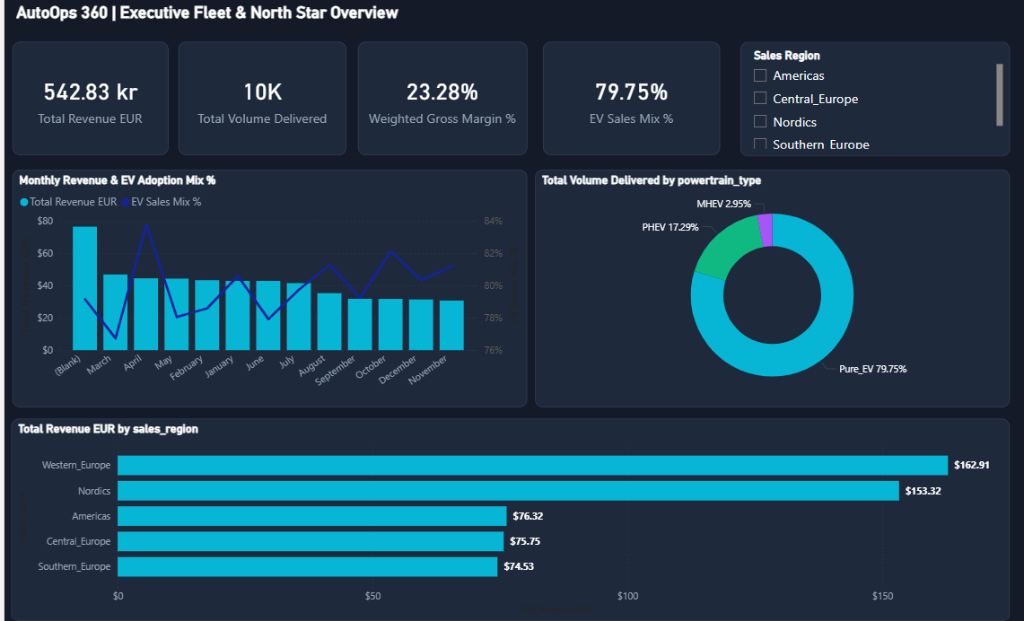

Layout of this report page (visuals, bound fields, positions):
{"tool":"powerbi","page":{"name":"Page 1","canvas":[1280,720],"ordinal":0},"visuals":[{"type":"card","fields":{"Values":["dim_dates.Total Revenue EUR"]},"box":[9.9,59.2,195.8,115.5],"z":0},{"type":"card","fields":{"Values":["dim_dates.Total Volume Delivered"]},"box":[218.3,59.2,211.3,115.5],"z":1000},{"type":"card","fields":{"Values":["dim_dates.Weighted Gross Margin %"]},"box":[443.7,59.2,212.7,115.5],"z":2000},{"type":"card","fields":{"Values":["dim_dates.EV Sales Mix %"]},"box":[676.1,59.2,222.5,115.5],"z":3000},{"type":"slicer","fields":{"Values":["dim_geography.sales_region"]},"box":[923.9,59.2,338,115.5],"z":4000},{"type":"lineStackedColumnComboChart","title":"Monthly Revenue & EV Adoption Mix %","fields":{"Category":["dim_dates.month_name"],"Y":["dim_dates.Total Revenue EUR"],"Y2":["dim_dates.EV Sales Mix %"]},"box":[9.9,193,646.5,284.5],"z":5000},{"type":"clusteredBarChart","title":"Total Revenue (€M) by Sales Region","fields":{"Category":["dim_geography.sales_region"],"Y":["dim_dates.Total Revenue EUR"]},"box":[9.9,493,1253.5,216.9],"z":6000},{"type":"donutChart","title":"Fleet Delivery Mix by Powertrain","fields":{"Category":["dim_vehicles.powertrain_type"],"Y":["dim_dates.Total Volume Delivered"]},"box":[666.2,193,595.8,284.5],"z":7000},{"type":"textbox","title":"AutoOps 360 | Executive Fleet & North Star Overview","box":[9.9,9.9,666.2,31],"z":7001}]}

Visuals, with their boxes on the page's 1280x720 design canvas (x1, y1, x2, y2). These are canvas units, not pixel positions in the 1024x621 screenshot, which may show the page scaled, cropped or inside an application window:
card - dim_dates.Total Revenue EUR: (x1=10, y1=59, x2=206, y2=175)
card - dim_dates.Total Volume Delivered: (x1=218, y1=59, x2=430, y2=175)
card - dim_dates.Weighted Gross Margin %: (x1=444, y1=59, x2=656, y2=175)
card - dim_dates.EV Sales Mix %: (x1=676, y1=59, x2=899, y2=175)
slicer - dim_geography.sales_region: (x1=924, y1=59, x2=1262, y2=175)
"Monthly Revenue & EV Adoption Mix %" lineStackedColumnComboChart: (x1=10, y1=193, x2=656, y2=478)
"Total Revenue (€M) by Sales Region" clusteredBarChart: (x1=10, y1=493, x2=1263, y2=710)
"Fleet Delivery Mix by Powertrain" donutChart: (x1=666, y1=193, x2=1262, y2=478)
"AutoOps 360 | Executive Fleet & North Star Overview" textbox: (x1=10, y1=10, x2=676, y2=41)
